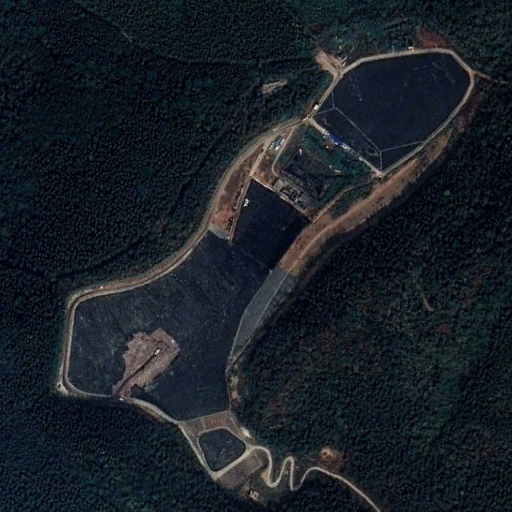lf: (66, 45, 475, 420)
